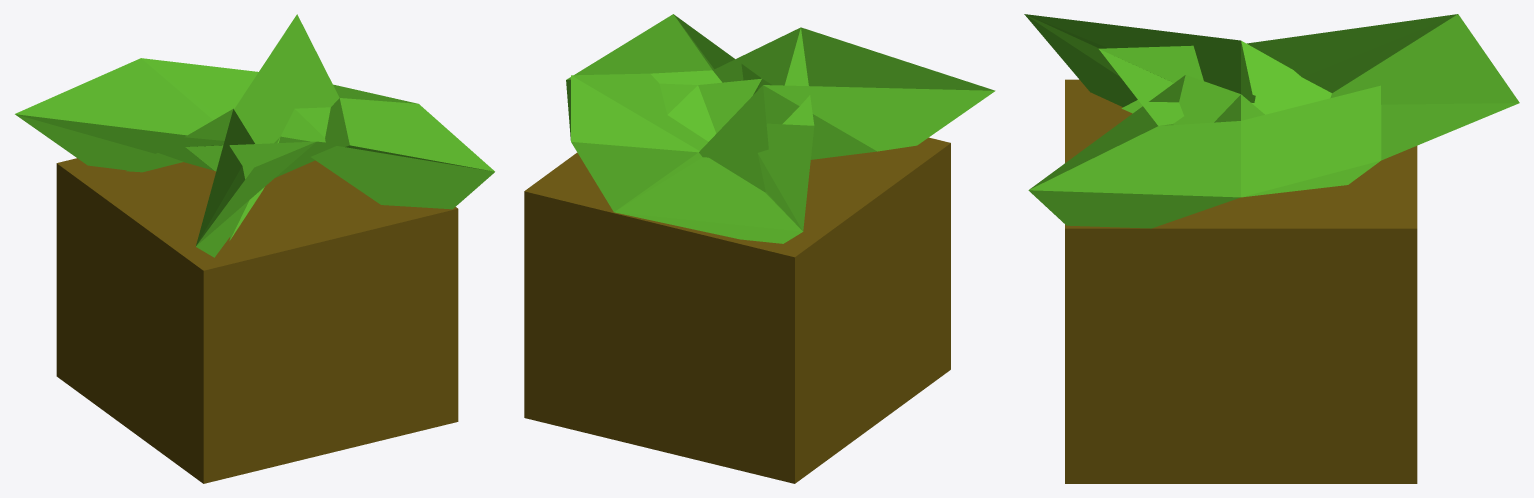
The model's file is grass_spring_1.glb.
3 views of the same model, side by side, from view 1: azimuth 30°, elevation 25°; view 2: azimuth 150°, elevation 25°; view 3: azimuth 270°, elevation 25° (orthographic). The views are drawn at different scales.
Visible parts, largest first — view 1: Cube; view 2: Cube; view 3: Cube.
Boxes of the visible parts, x1,y1,x2,y2 form: Cube: (15, 14, 494, 483); Cube: (524, 14, 995, 483); Cube: (1024, 14, 1519, 483).
Size of the model in its own units: 2.46 by 2.39 by 2.82.
